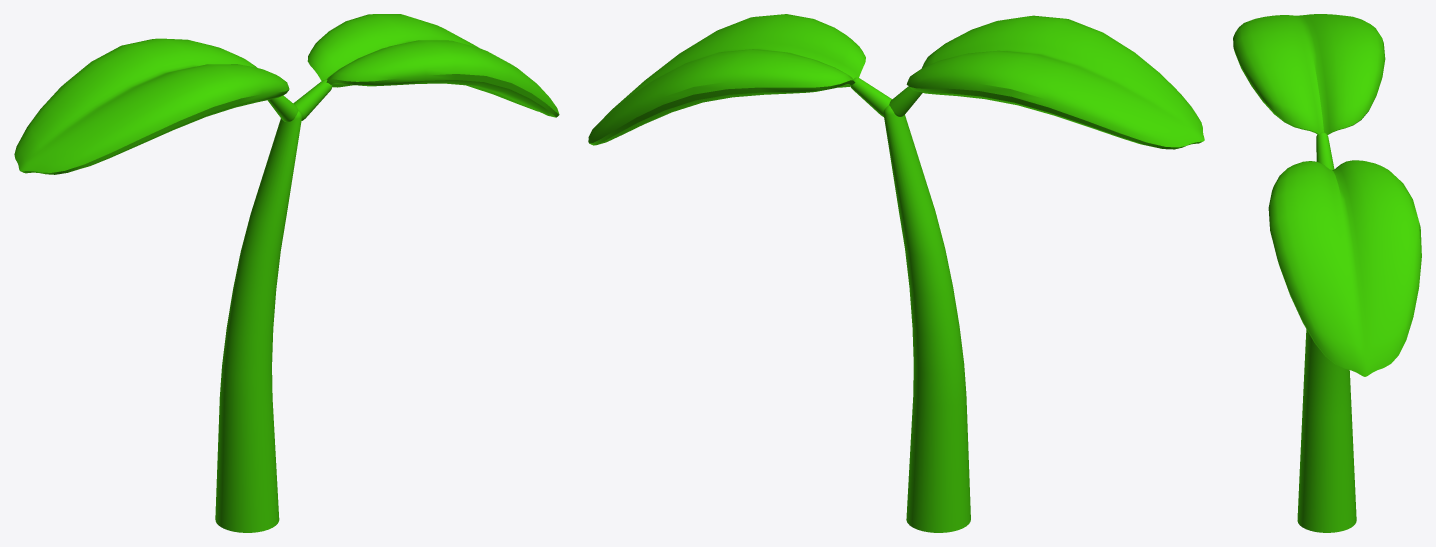
The model's file is sprout.glb.
3 views of the same model, side by side, from view 1: azimuth 30°, elevation 25°; view 2: azimuth 150°, elevation 25°; view 3: azimuth 270°, elevation 25° (orthographic). The views are drawn at different scales.
Parts seen in each view (by area): view 1: Cylinder.001; view 2: Cylinder.001; view 3: Cylinder.001.
Boxes of the visible parts, x1,y1,x2,y2 form: Cylinder.001: (14, 14, 559, 532); Cylinder.001: (588, 14, 1204, 532); Cylinder.001: (1233, 14, 1421, 532).
Bounding box in the file's own units: 12.28 × 10 × 3.81.
